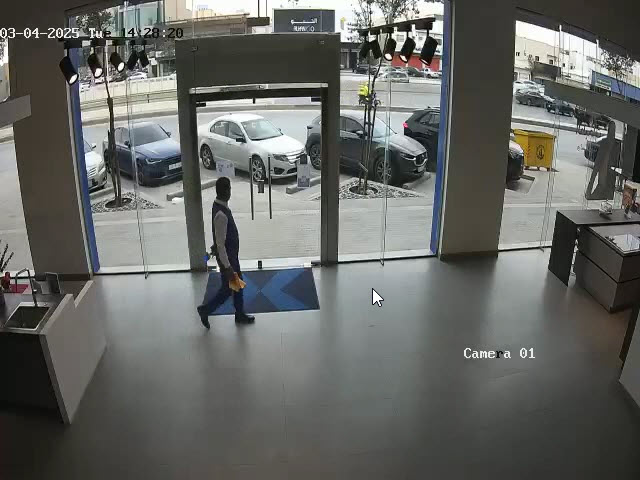employee: (197, 176, 255, 330)
